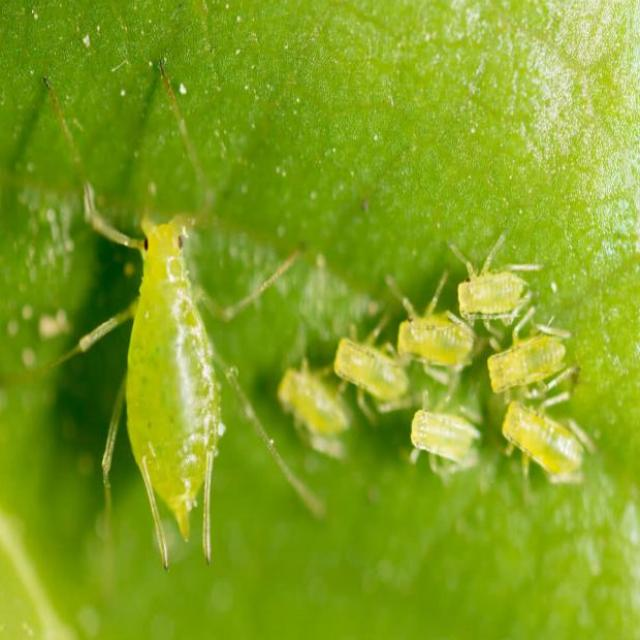Aphids: (282, 220, 620, 490), (58, 170, 280, 579)
